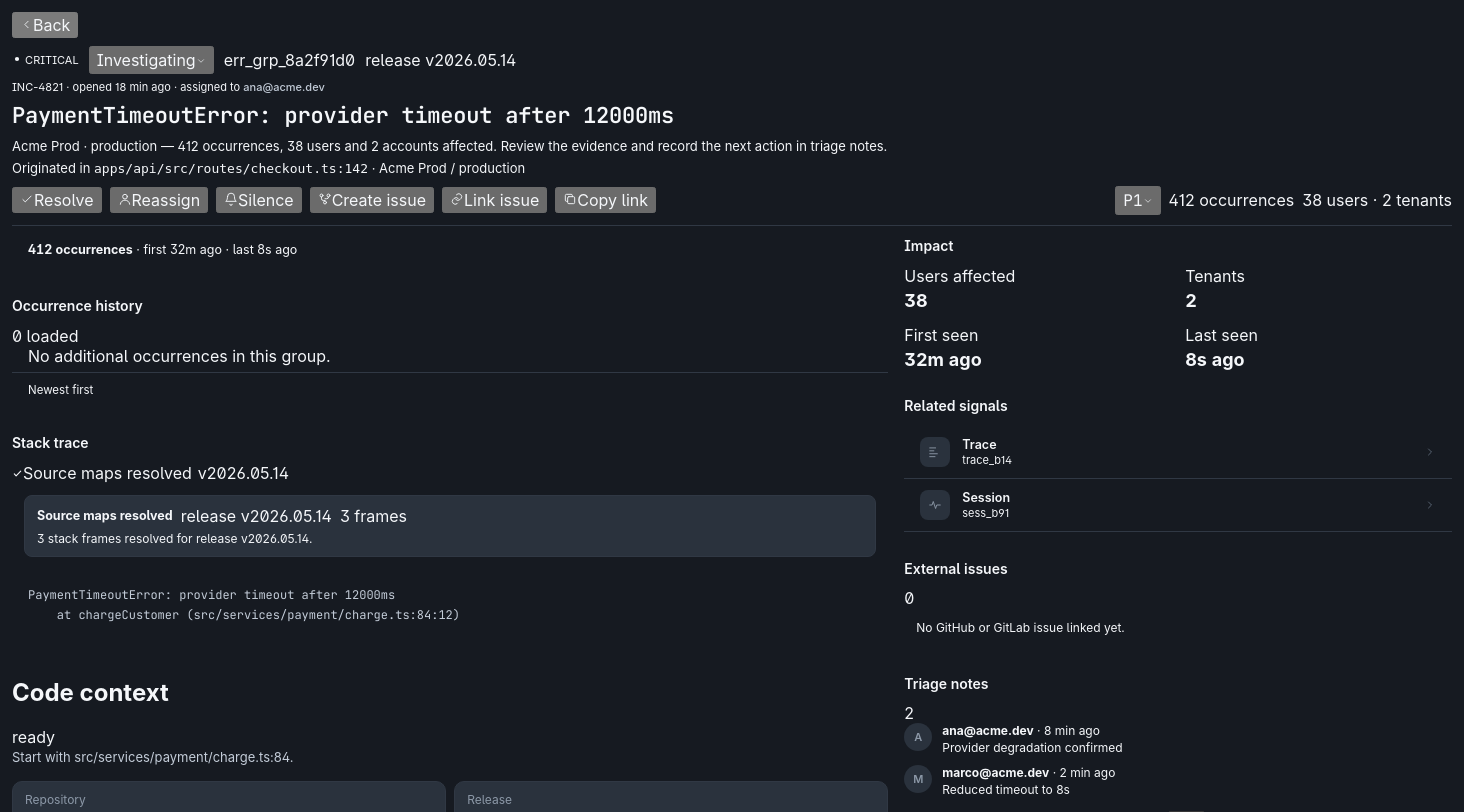
Test: IncidentScreen › header — editable status › opens a status menu with open/investigating/resolved/ignored options when the status control is clicked
Click the button with aria-label "status" at [151, 60], box [89,46,214,74]
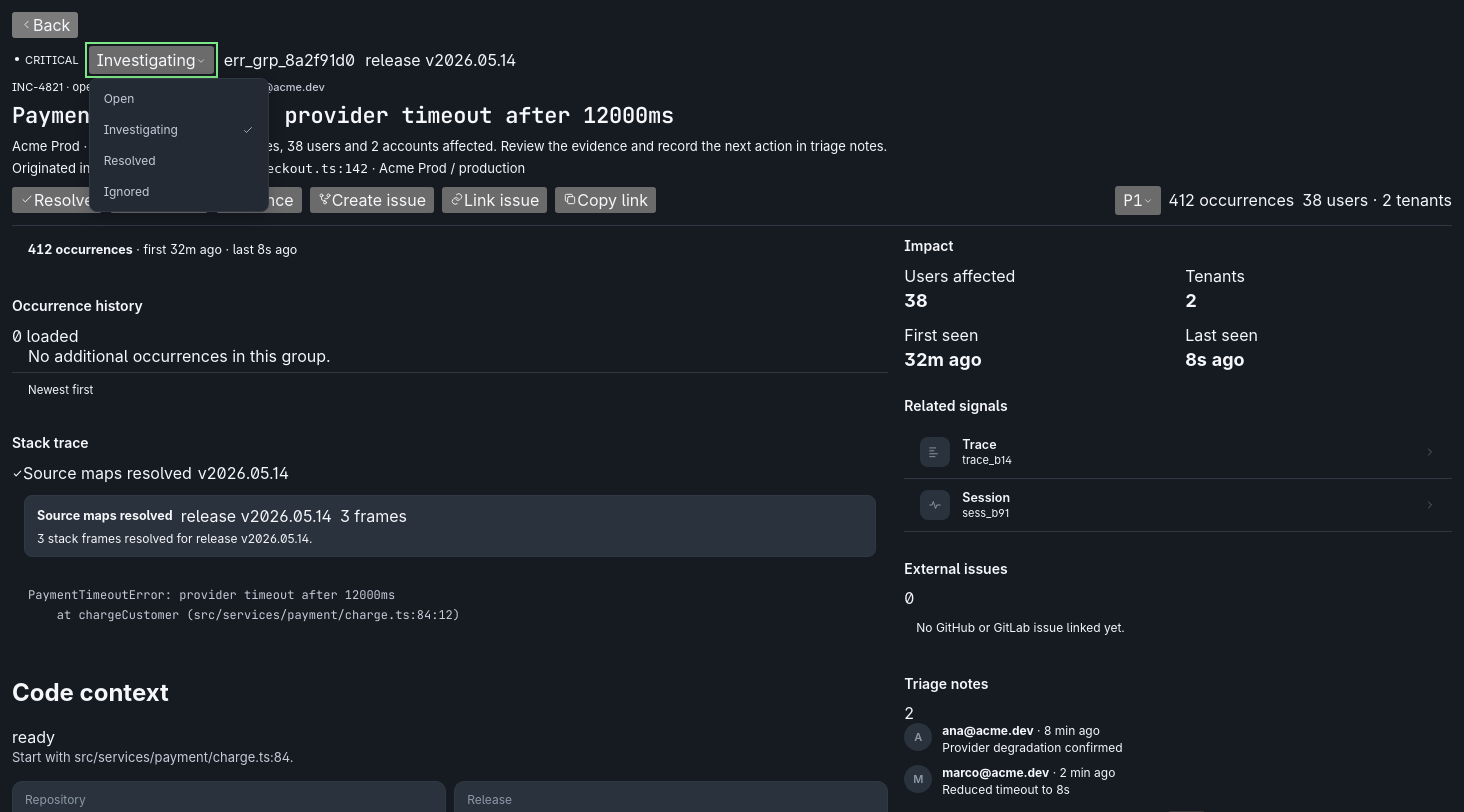
Expected: the button "Open" is shown, [90,83,268,114]
Expected: the button "Resolved" is shown, [90,145,268,176]
Expected: the button "Ignored" is shown, [90,176,268,207]
